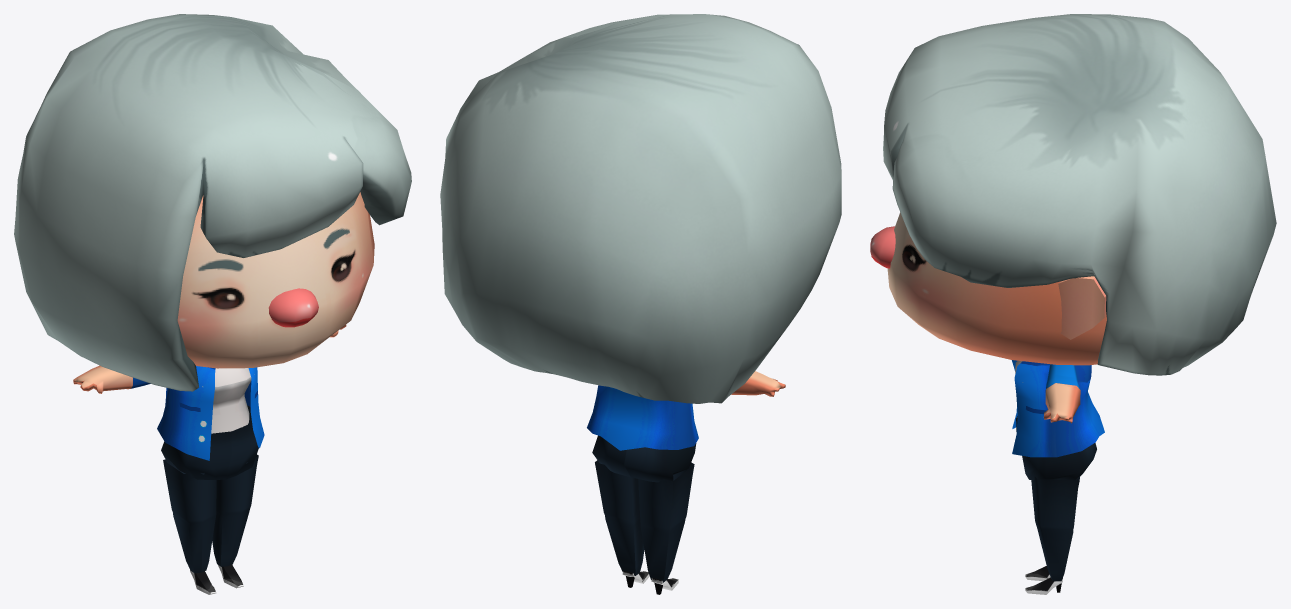
File: Char_Sci_Tech_02.fbx
3 renders of one model, left to right at view 1: azimuth 30°, elevation 25°; view 2: azimuth 150°, elevation 25°; view 3: azimuth 270°, elevation 25°, orthographic. The views are drawn at different scales.
Visible parts, largest first — view 1: Hair_Network, Head_Network, Jacket_Network, R_Leg_Network, L_Leg_Network, Butt_Network, Body_Network, Nose_Network, R_Arm_Network; view 2: Hair_Network, Jacket_Network, R_Leg_Network, L_Leg_Network, Butt_Network, R_Arm_Network; view 3: Hair_Network, Head_Network, Jacket_Network, L_Leg_Network, L_Ear_Network, L_Arm_Network, Butt_Network, Nose_Network.
Part boxes in pixels (bbox=[...]): Hair_Network: bbox=[14, 14, 411, 391]; Head_Network: bbox=[177, 192, 374, 368]; Jacket_Network: bbox=[157, 366, 264, 460]; R_Leg_Network: bbox=[163, 459, 216, 594]; L_Leg_Network: bbox=[212, 454, 258, 588]; Butt_Network: bbox=[161, 405, 259, 479]; Body_Network: bbox=[202, 368, 254, 433]; Nose_Network: bbox=[268, 288, 318, 327]; R_Arm_Network: bbox=[73, 365, 150, 393]; Hair_Network: bbox=[440, 14, 841, 403]; Jacket_Network: bbox=[587, 385, 698, 450]; R_Leg_Network: bbox=[638, 462, 694, 594]; L_Leg_Network: bbox=[595, 460, 649, 587]; Butt_Network: bbox=[592, 435, 696, 482]; R_Arm_Network: bbox=[731, 371, 785, 396]; Hair_Network: bbox=[883, 14, 1276, 375]; Head_Network: bbox=[887, 212, 1106, 365]; Jacket_Network: bbox=[1012, 360, 1104, 457]; L_Leg_Network: bbox=[1025, 471, 1079, 594]; L_Ear_Network: bbox=[1058, 276, 1106, 339]; L_Arm_Network: bbox=[1043, 364, 1080, 423]; Butt_Network: bbox=[1016, 416, 1096, 480]; Nose_Network: bbox=[870, 226, 895, 268].
Bounding box in the file's own units: 4.57 × 7.22 × 4.89.
2 materials, 2 textured.
